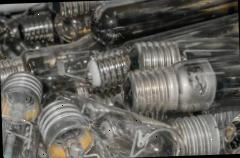lightbulb: (0, 0, 240, 158), (127, 57, 218, 121), (36, 97, 113, 158), (0, 70, 43, 124), (220, 110, 240, 154)
